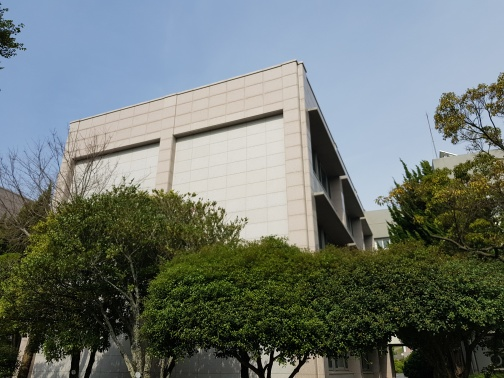College of Nursing: (58, 63, 373, 270)
